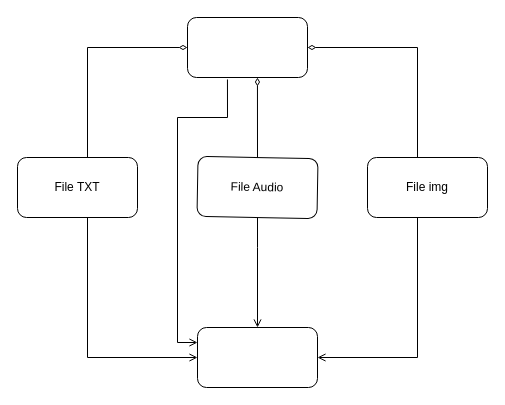
Some shapes in this 505 by 405 pixel diagram are drawn without their labels. Each missing label, with the box of its shape:
Directory: (196, 326, 318, 388)
FILE: (186, 16, 308, 78)
